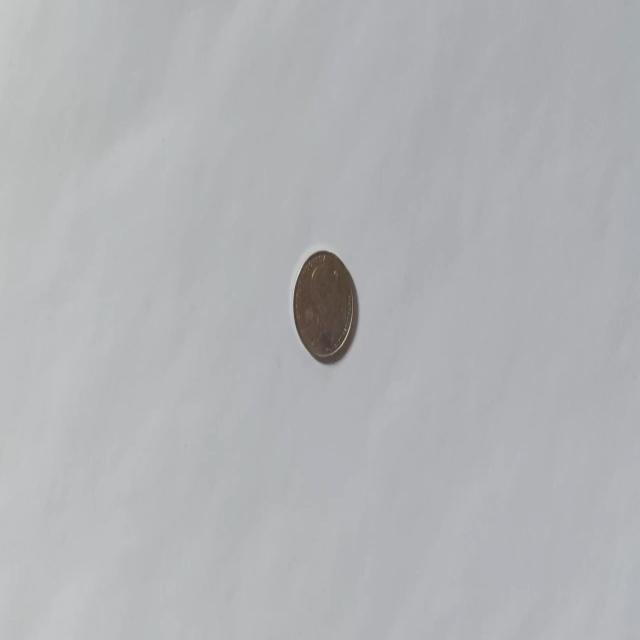seribu rupiah koin: (291, 247, 356, 365)
